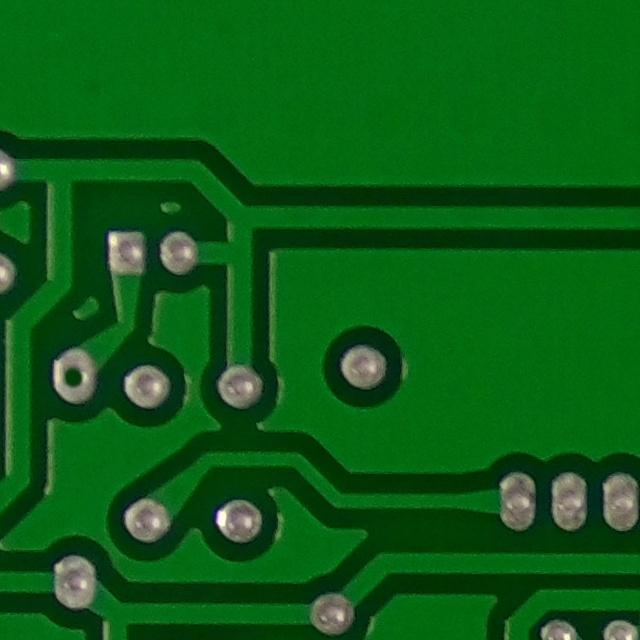missing_hole: (46, 349, 104, 409)
